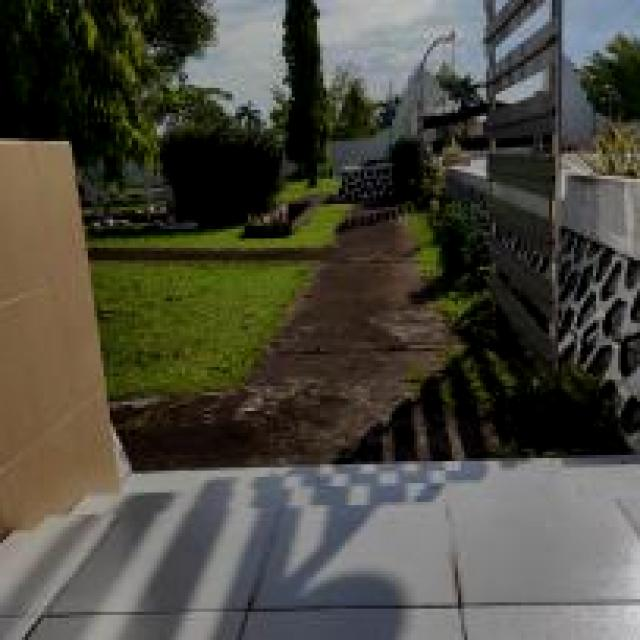downstair: (20, 428, 640, 575)
